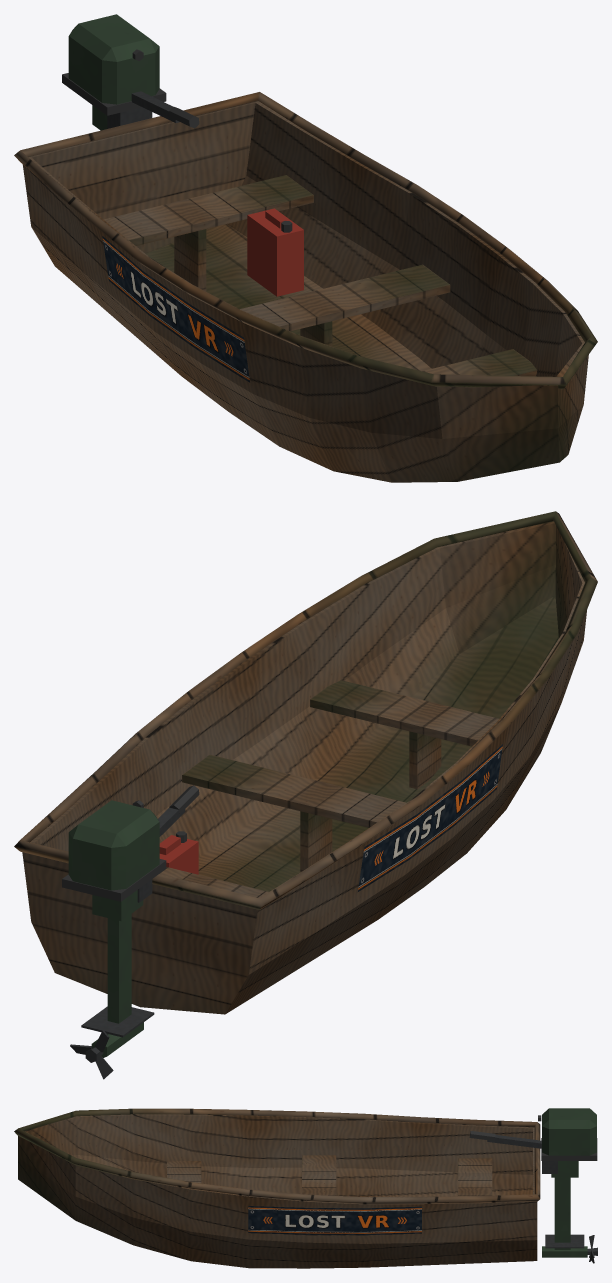
File: Boat_LostVR.glb
3 renders of one model, top to bottom at view 1: azimuth 30°, elevation 25°; view 2: azimuth 150°, elevation 25°; view 3: azimuth 270°, elevation 25°, orthographic. The views are drawn at different scales.
Parts seen in each view (by area): view 1: Hull, Gunwale, Object.003, seat.001, seat.002, Banner_L, fuel, seat.003, seat, Object.005, motor handle part; view 2: Hull, Gunwale, seat.002, Object.003, seat.003, Banner_L, Object.001, seat suppourt, seat suppourt.001, Object.006, Object.005, fuel (+2 smaller); view 3: Hull, Gunwale, Banner_R, Object.003, seat.002, seat.001, Object.001, seat.003, Object.006, Object.002, motor handle part, Object.005 (+1 smaller).
Part boxes in pixels (x1,y1,x2,y2): Hull: (22, 101, 588, 482); Gunwale: (14, 92, 597, 389); Object.003: (68, 14, 159, 104); seat.001: (104, 175, 313, 245); seat.002: (240, 264, 450, 331); Banner_L: (102, 236, 249, 382); fuel: (247, 208, 303, 296); seat.003: (422, 349, 537, 376); seat: (174, 229, 206, 291); Object.005: (62, 73, 166, 115); motor handle part: (131, 91, 179, 122); Hull: (22, 521, 586, 1014); Gunwale: (14, 511, 597, 909); seat.002: (182, 754, 406, 827); Object.003: (68, 800, 159, 890); seat.003: (310, 680, 498, 746); Banner_L: (358, 744, 502, 891); Object.001: (107, 914, 131, 1023); seat suppourt: (300, 811, 332, 872); seat suppourt.001: (409, 731, 441, 789); Object.006: (81, 1006, 154, 1037); Object.005: (62, 859, 166, 901); fuel: (159, 835, 198, 874); Hull: (18, 1114, 537, 1268); Gunwale: (14, 1108, 540, 1204); Banner_R: (248, 1206, 421, 1235); Object.003: (542, 1108, 596, 1155); seat.002: (302, 1155, 336, 1195); seat.001: (458, 1158, 492, 1196); Object.001: (554, 1177, 570, 1249); seat.003: (167, 1161, 201, 1183); Object.006: (545, 1234, 584, 1248); Object.002: (542, 1246, 587, 1257); motor handle part: (487, 1135, 541, 1148); Object.005: (541, 1138, 597, 1160).
Size of the model in its own units: 1.8 by 1.47 by 5.11.
Materials: 2 (2 with a texture image).
